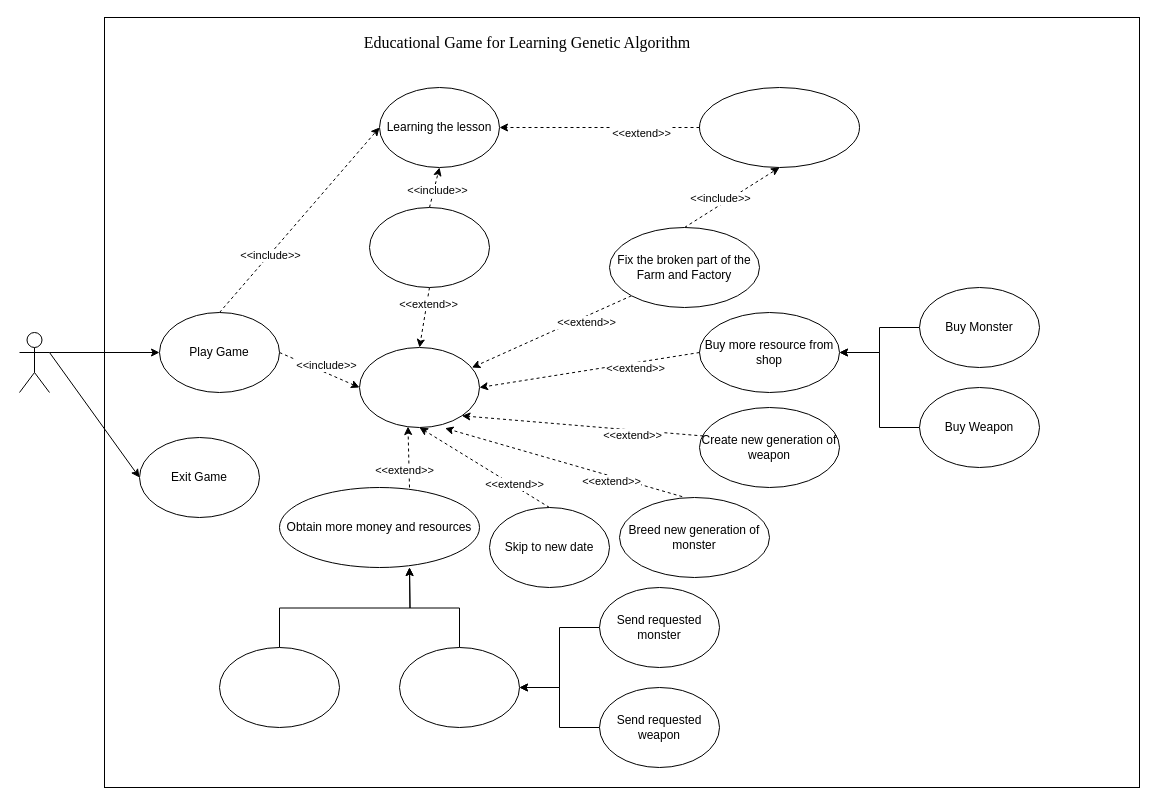
Some shapes in this 1157 by 805 pixel diagram are drawn without their labels. Here are the shapes that lost their labels. From the top down, the centre of each, then its label:
pixel 779 127: Test their knowledge by Puzzle or Question
pixel 429 247: Unlock New Farm and Factory
pixel 34 362: Player
pixel 419 387: Manage Farm and Factory
pixel 279 687: Battle in arena
pixel 459 687: Complete Quest
